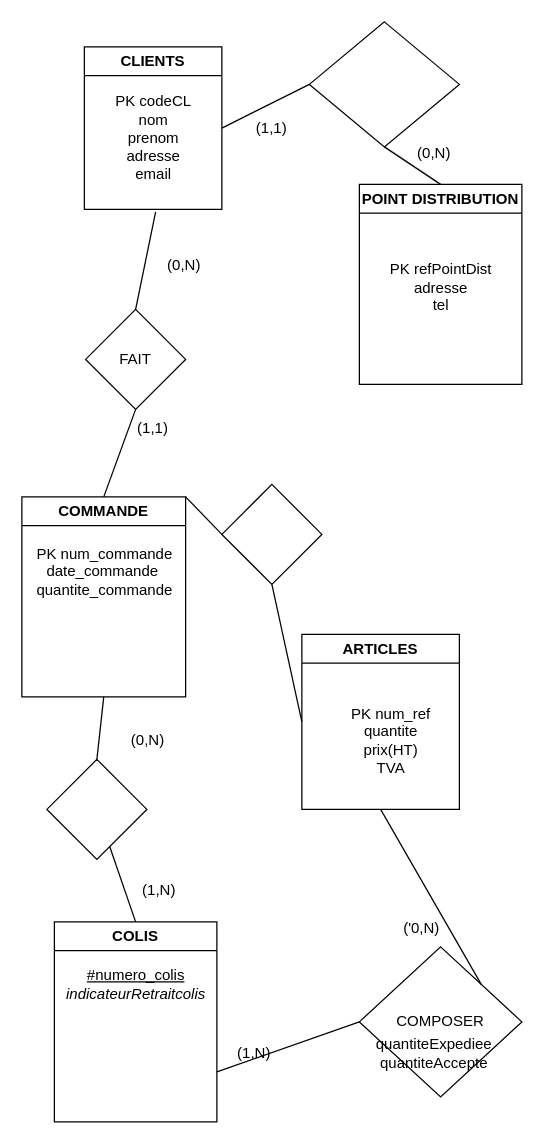
Some shapes in this 544 by 1144 pixel diagram are drawn without their labels. The centre of each missing label's shape, as x and y in pixels:
"APPARTENIR" belongs at point 96,808.
"ASSOCIE" belongs at point 383,84.
"FAIRE_PARTIE" belongs at point 271,533.
